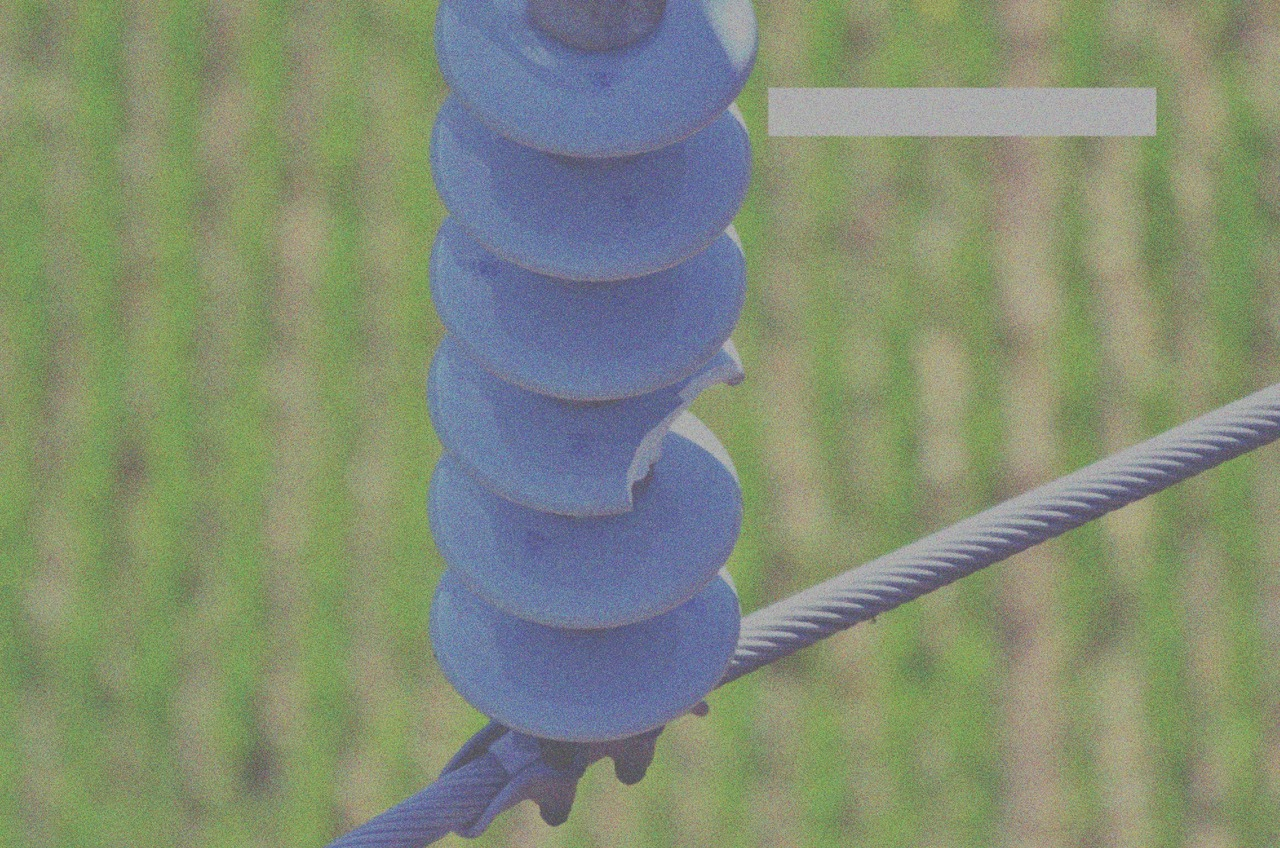Broken: (426, 330, 747, 516)
No issues: (426, 90, 757, 286), (421, 555, 752, 750), (428, 0, 761, 161)
String: (417, 0, 768, 757)
